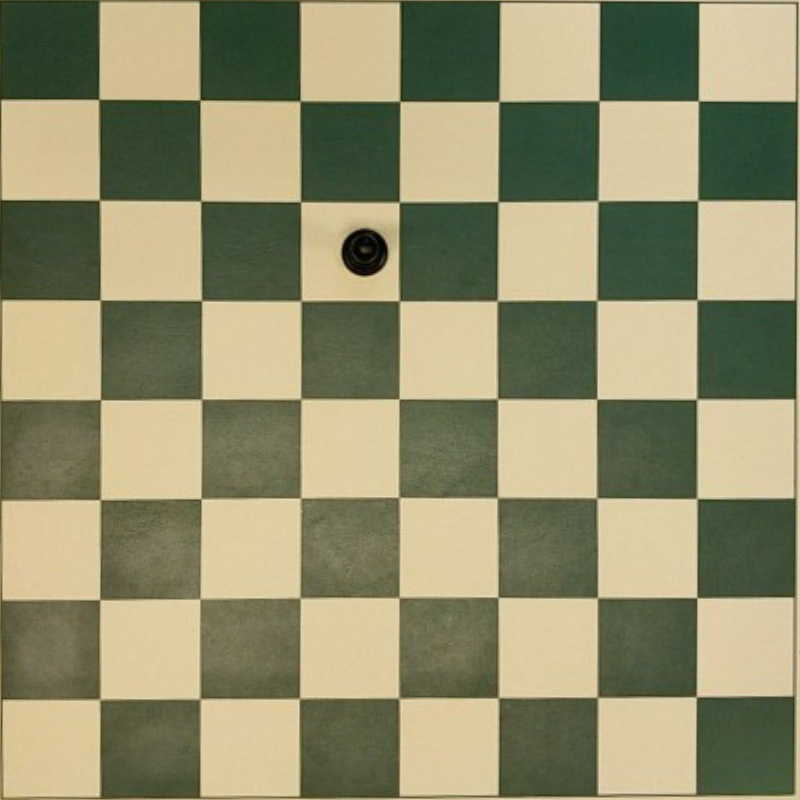black-pawn: (341, 228, 388, 275)
